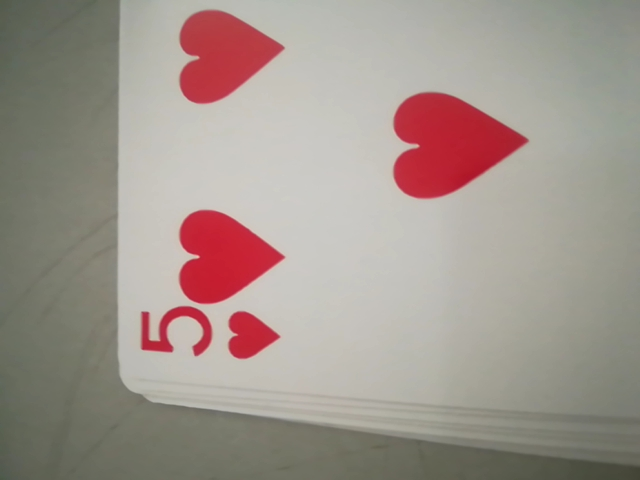hx 5: (131, 300, 290, 376)
